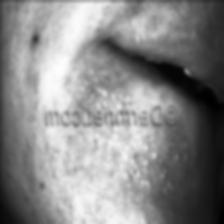Non-Cancerous Skin Condition: (89, 140, 203, 212), (69, 85, 122, 137)
